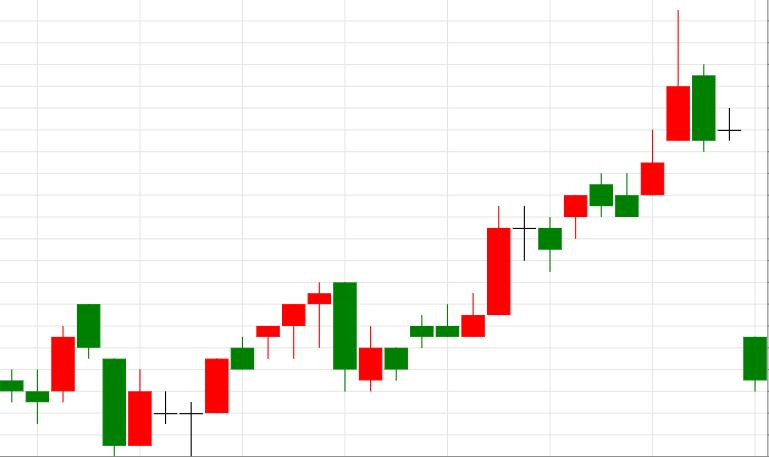bearish_engulfing_fall: (179, 282, 357, 456)
